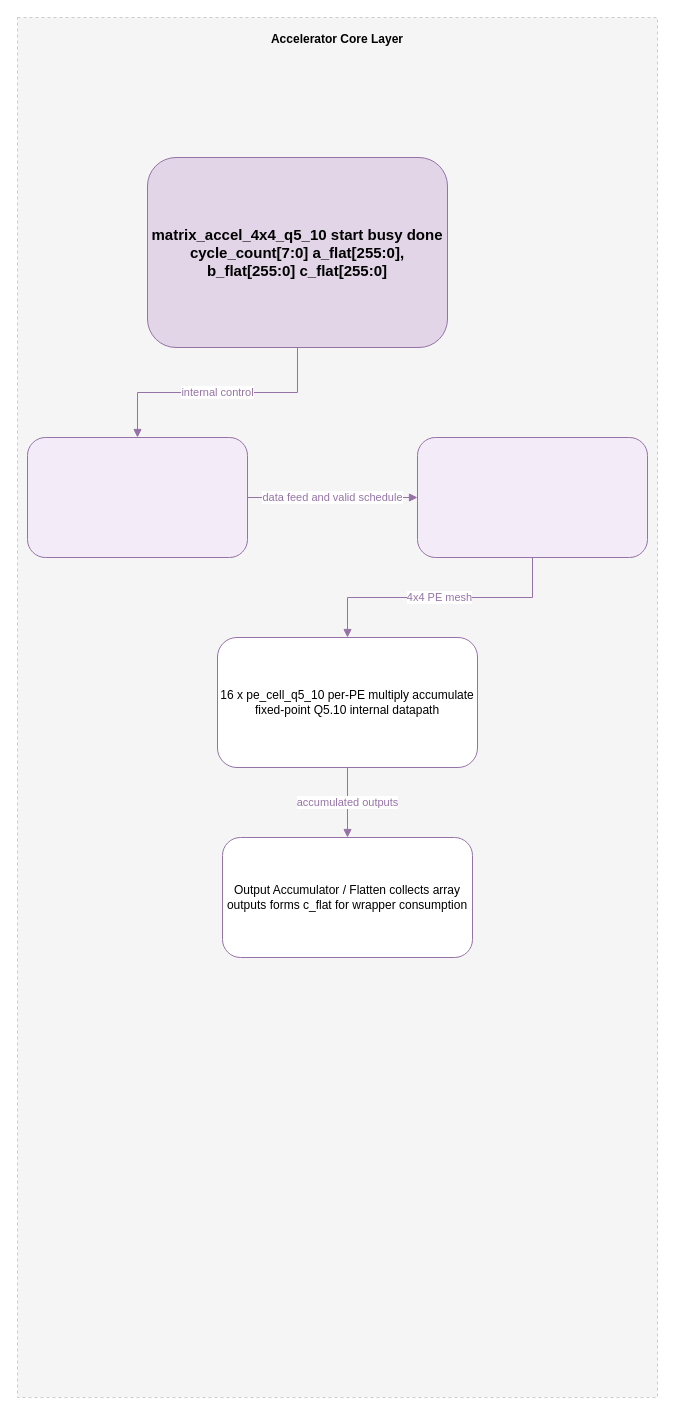
This 675x1415 diagram has some shape labels left out. The box of each missing label's shape, as (x1, y1, x2, y2) in pixels:
issue_logic_4x4_q5_10 drives wavefront / valid timing into array: (26, 436, 248, 558)
systolic_array_4x4_q5_10 4x4 MAC fabric for fixed-point matmul: (416, 436, 648, 558)
